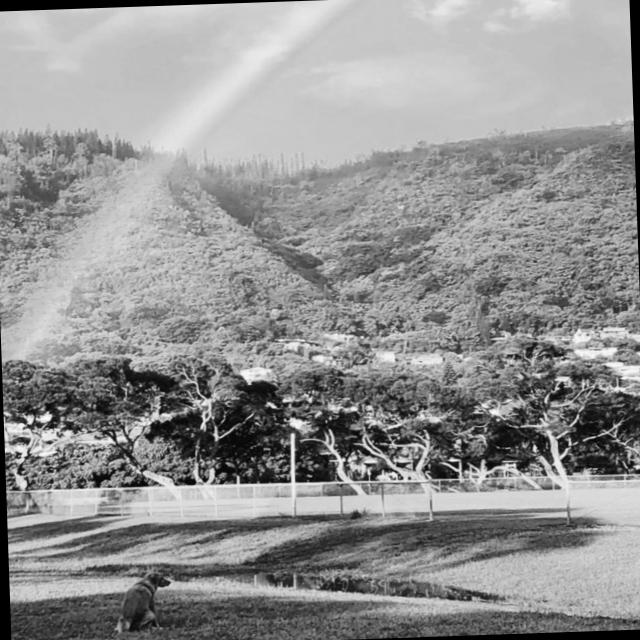squatting: (104, 566, 180, 635)
